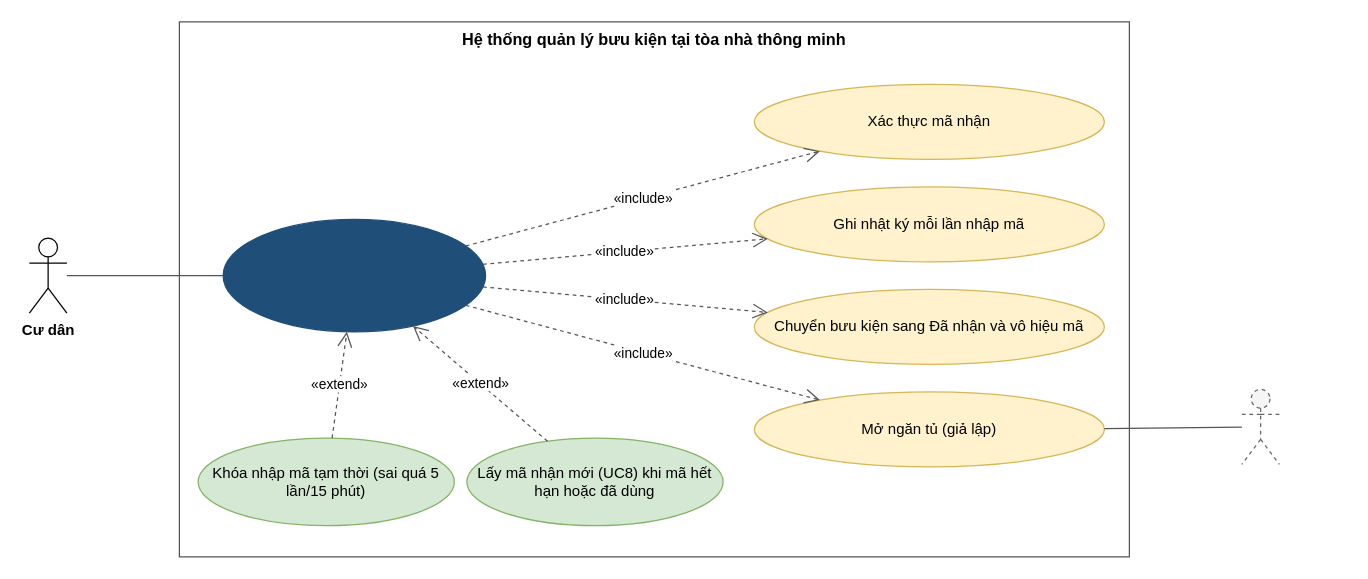
The diagram is 1368 pixels wide and 579 high, and some of its shapes have lost their labels. The centre of each missing label's shape, as x and y in pixels:
"Hệ thống tủ khóa (giả lập)" goes at pixel 1260 426.
"Nhận bưu kiện bằng mã" goes at pixel 354 275.
